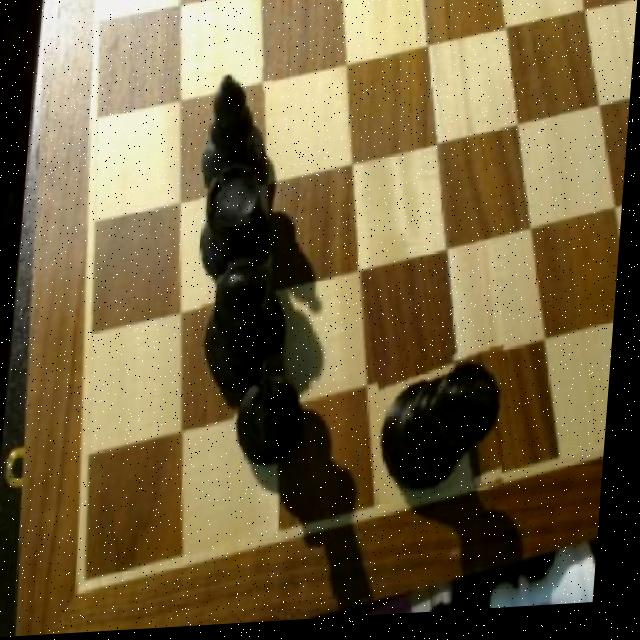bishop: (197, 71, 277, 196)
black-bishop: (377, 355, 515, 508)
black-king: (236, 356, 312, 471)
black-pawn: (201, 255, 294, 390)
black-queen: (199, 163, 277, 282)
